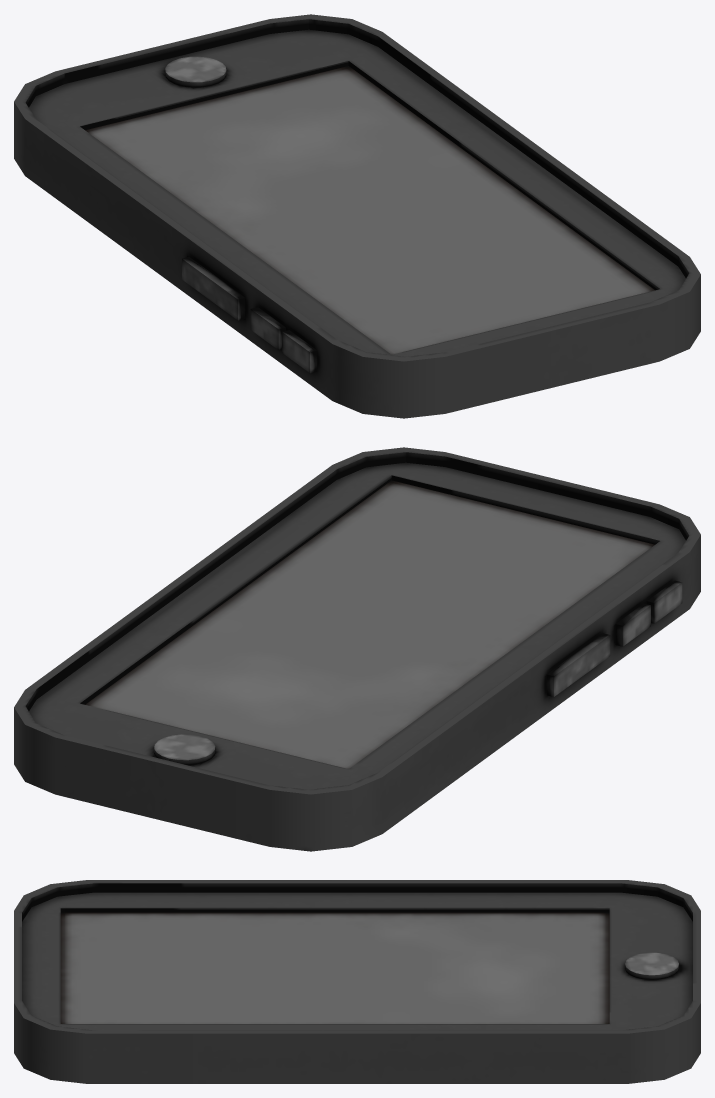
File: SM_Phone.fbx
The picture shows the model from 3 angles, top to bottom: view 1: azimuth 30°, elevation 25°; view 2: azimuth 150°, elevation 25°; view 3: azimuth 270°, elevation 25°; orthographic projection. The views are drawn at different scales.
Visible parts, largest first — view 1: SM_Phone; view 2: SM_Phone; view 3: SM_Phone.
Boxes of the visible parts, box(x1,y1,x2,y2) form: SM_Phone: box(14, 14, 700, 418); SM_Phone: box(14, 447, 700, 851); SM_Phone: box(14, 880, 700, 1083).
Size of the model in its own units: 5.71 by 0.8533 by 10.57.
